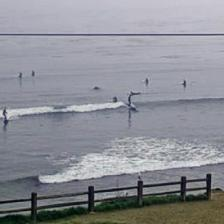surfer: (2, 108, 8, 119), (130, 92, 141, 96), (112, 96, 118, 103), (128, 95, 132, 105), (32, 70, 37, 77), (182, 80, 187, 86), (18, 72, 23, 78), (93, 86, 100, 90), (145, 78, 149, 84)
